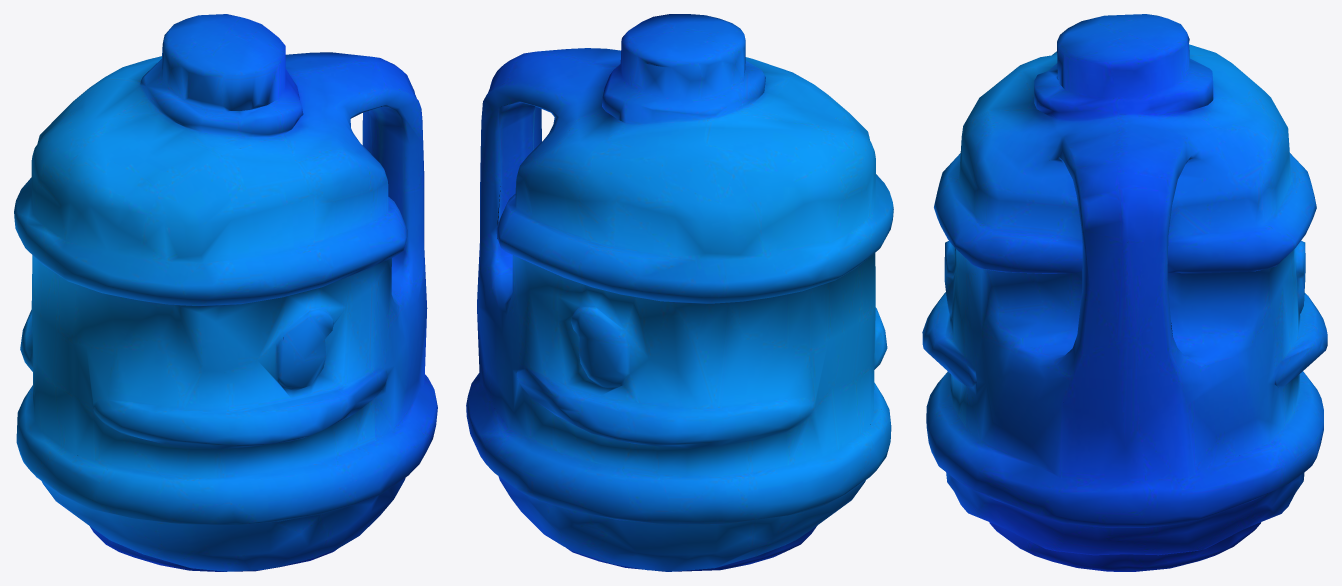
The model's file is water_cooler.glb.
3 views of the same model, side by side, from view 1: azimuth 30°, elevation 25°; view 2: azimuth 150°, elevation 25°; view 3: azimuth 270°, elevation 25° (orthographic).
Parts seen in each view (by area): view 1: low; view 2: low; view 3: low.
Boxes of the visible parts, x1,y1,x2,y2 form: low: (14, 14, 437, 571); low: (466, 14, 893, 571); low: (922, 14, 1327, 571).
Bounding box in the file's own units: 0.799 × 0.9795 × 0.7517.
Materials: 1 (1 with a texture image).
